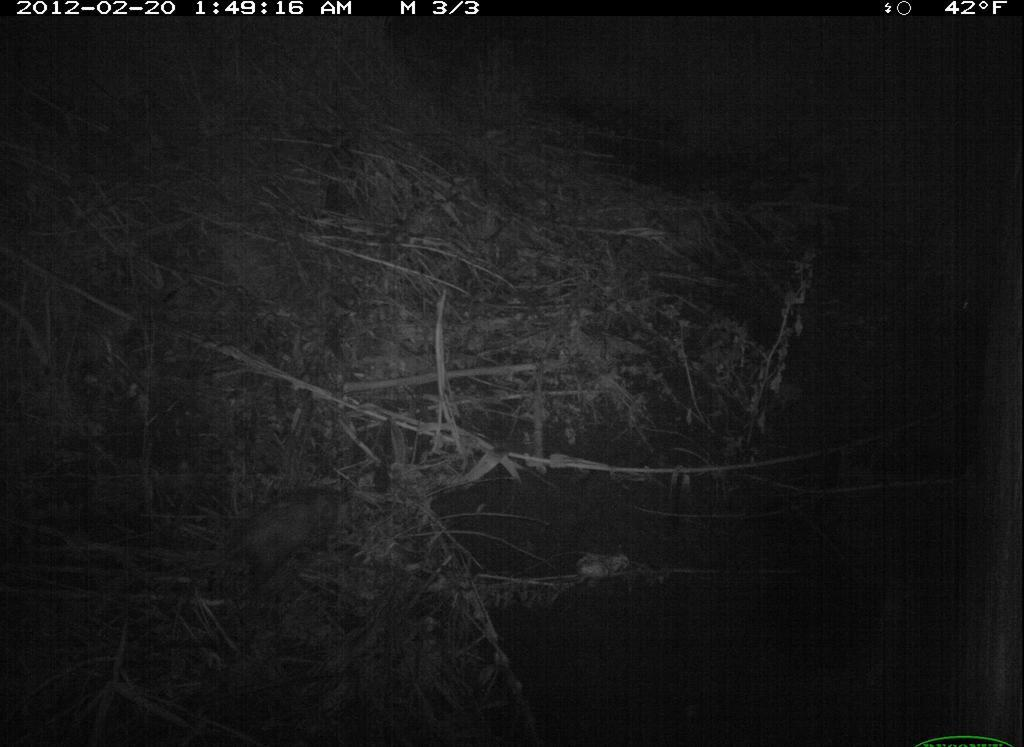opossum: (194, 474, 368, 615)
